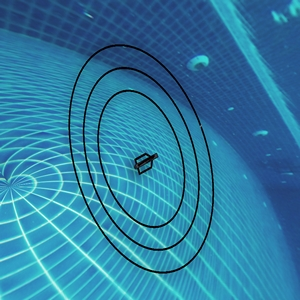circle: (59, 31, 220, 284)
